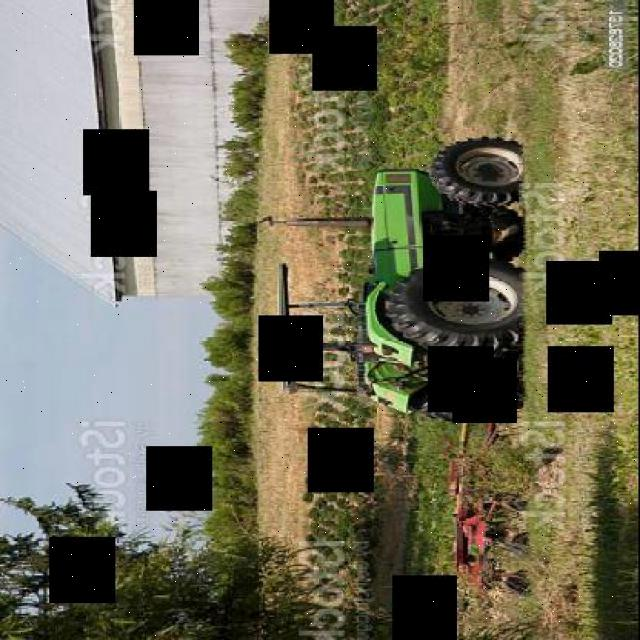Tratores - v5 YOLO V8L 2024-11-13: (216, 108, 610, 446)
